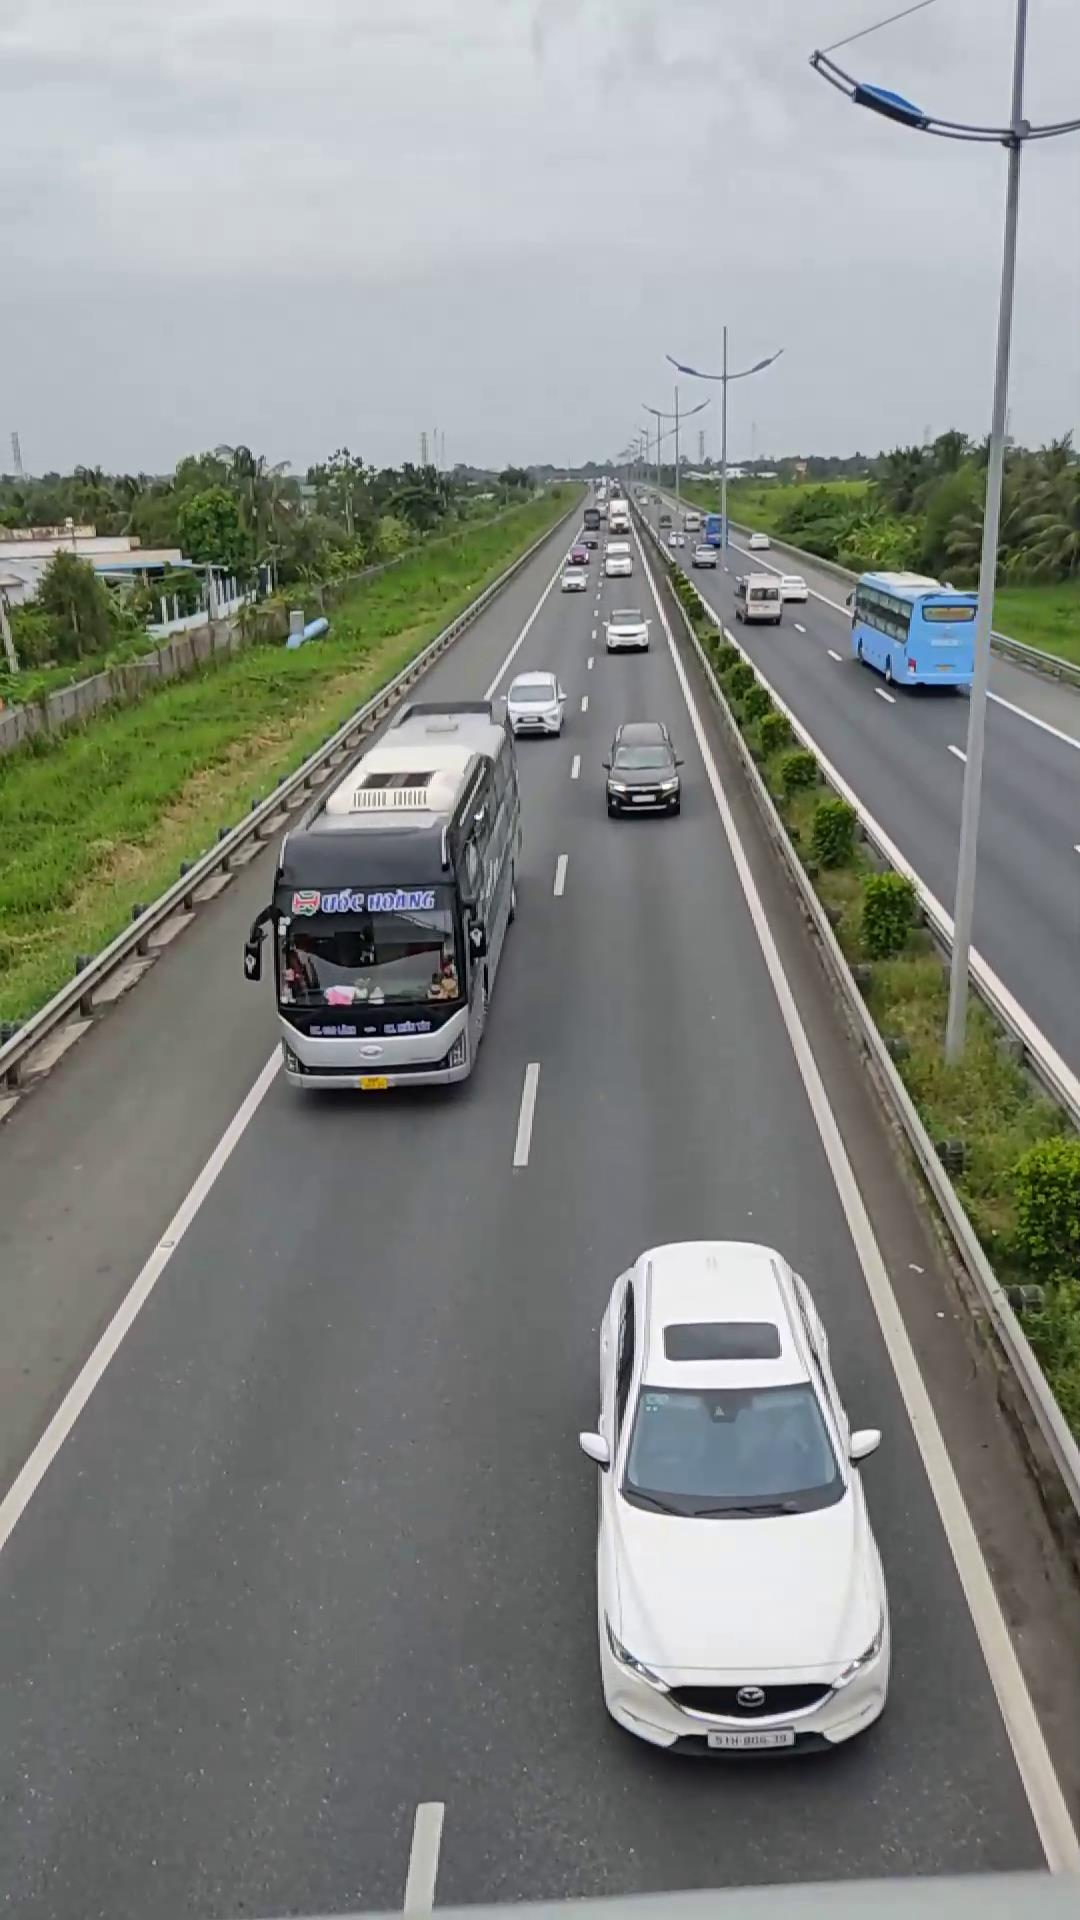bus: (251, 705, 524, 1092)
car: (578, 1236, 895, 1760), (600, 720, 684, 818), (492, 670, 570, 737)
